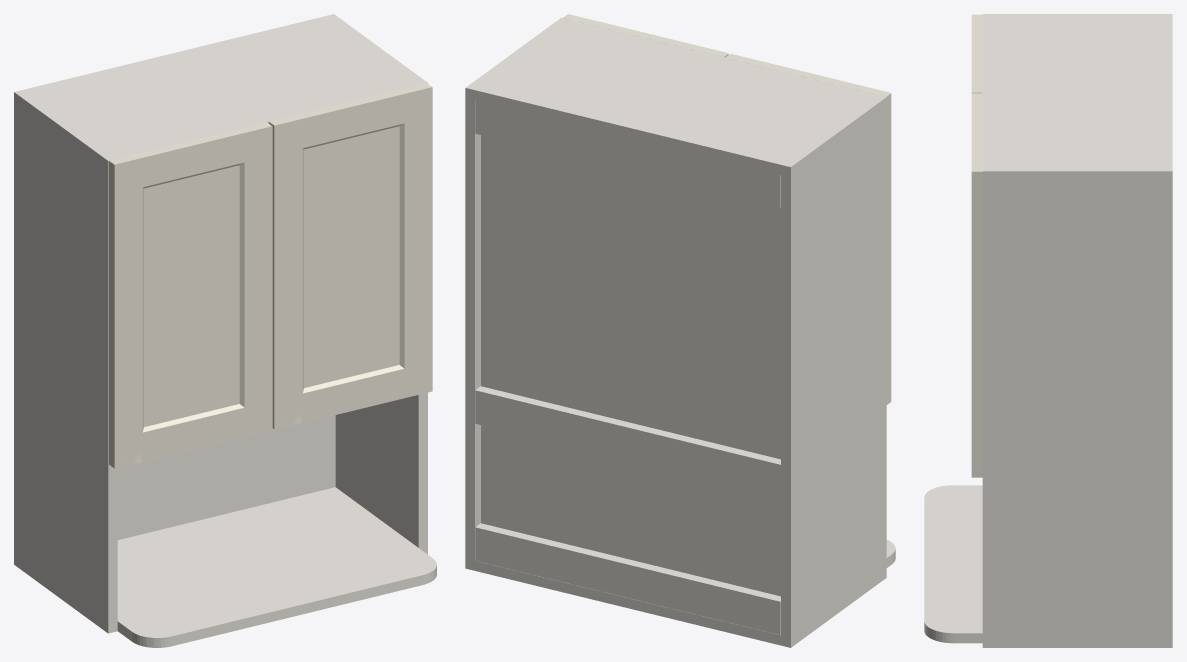
File: Wall Microwave.glb
3 views of the same model, side by side, from view 1: azimuth 30°, elevation 25°; view 2: azimuth 150°, elevation 25°; view 3: azimuth 270°, elevation 25° (orthographic).
Parts seen in each view (by area): view 1: Geom3D_Door(L), Geom3D_Door(R), Geom3D_UEnd (L)-A (×2), Geom3D_Bottom-B (×2), Geom3D_Top-D, Geom3D_UBack-C, Geom3D_UEnd (R)-G (×2); view 2: Geom3D_UBack-C, Geom3D_UEnd (L)-A (×2), Geom3D_Nailer-H (×3), Geom3D_Top-D, Geom3D_UEnd (R)-G (×2), Geom3D_Bottom-B, Geom3D_Door(L), Geom3D_Door(R); view 3: Geom3D_UEnd (R)-G (×2), Geom3D_Top-D, Geom3D_Bottom-B, Geom3D_Door(R), Geom3D_Door(L), Geom3D_UEnd (L)-A.
Part boxes in pixels (box(x1,y1,x2,y2)): Geom3D_Door(L): box(109, 122, 272, 468); Geom3D_Door(R): box(269, 83, 432, 429); Geom3D_UEnd (L)-A (×2): box(14, 90, 117, 633); Geom3D_Bottom-B (×2): box(117, 487, 436, 647); Geom3D_Top-D: box(24, 16, 417, 158); Geom3D_UBack-C: box(117, 415, 335, 539); Geom3D_UEnd (R)-G (×2): box(325, 14, 427, 554); Geom3D_UBack-C: box(481, 135, 780, 596); Geom3D_UEnd (L)-A (×2): box(781, 95, 886, 647); Geom3D_Nailer-H (×3): box(475, 100, 780, 634); Geom3D_Top-D: box(475, 20, 876, 174); Geom3D_UEnd (R)-G (×2): box(465, 17, 570, 570); Geom3D_Bottom-B: box(475, 539, 895, 645); Geom3D_Door(L): box(725, 54, 891, 404); Geom3D_Door(R): box(563, 14, 728, 57); Geom3D_UEnd (R)-G (×2): box(982, 166, 1172, 647); Geom3D_Top-D: box(982, 18, 1172, 166); Geom3D_Bottom-B: box(924, 485, 982, 643); Geom3D_Door(R): box(971, 93, 982, 477); Geom3D_Door(L): box(971, 14, 982, 93); Geom3D_UEnd (L)-A: box(982, 14, 1172, 18).
Bounding box in the file's own units: 0.6477 × 0.9145 × 0.4318.
2 materials, 2 textured.
